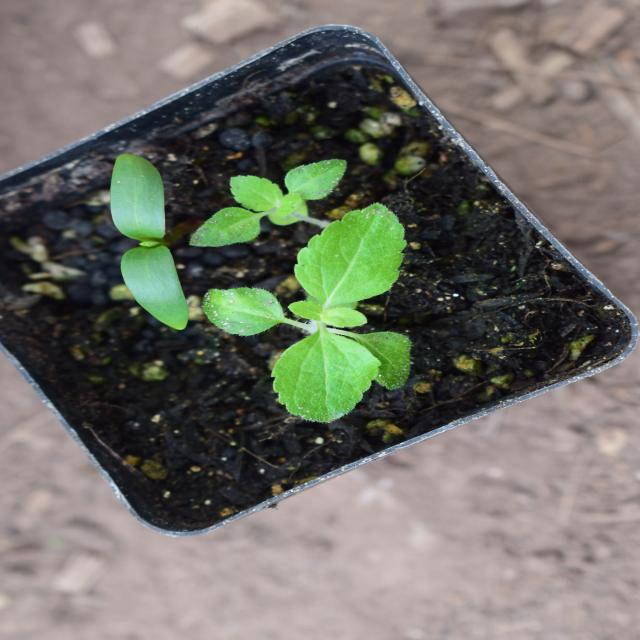billygoat_weed: (228, 203, 426, 419), (393, 184, 486, 359)
